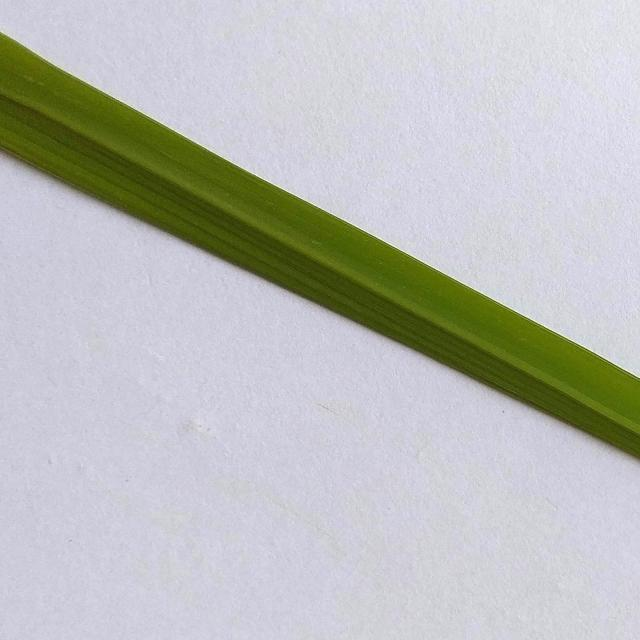healthy: (0, 11, 640, 461)
